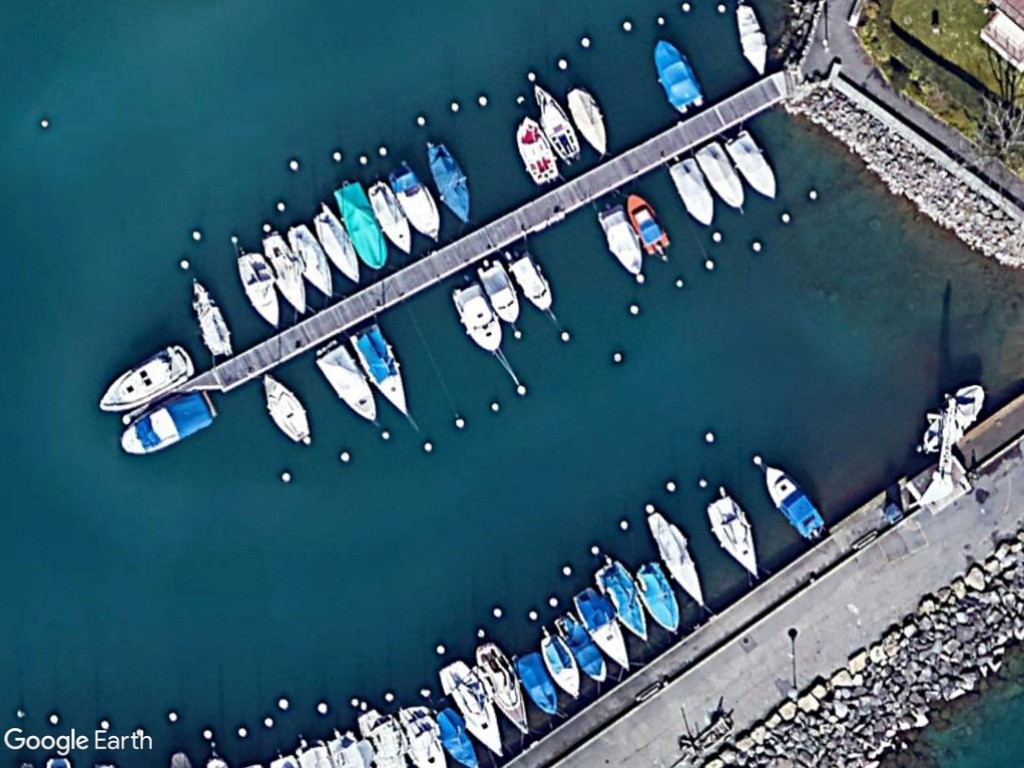boat: (89, 337, 197, 421), (642, 507, 716, 615), (117, 385, 224, 459), (436, 657, 512, 759), (345, 321, 417, 415), (310, 334, 385, 423), (469, 640, 536, 739), (696, 489, 767, 582), (760, 456, 833, 546), (570, 582, 633, 672), (593, 554, 652, 646), (333, 179, 390, 273), (623, 553, 684, 640), (391, 155, 449, 246), (527, 76, 583, 169), (529, 618, 590, 702), (308, 198, 366, 286), (426, 136, 480, 228), (549, 608, 612, 685), (661, 153, 719, 236), (259, 228, 313, 317), (230, 247, 285, 333), (284, 217, 340, 301), (422, 695, 485, 768), (654, 30, 706, 117), (723, 128, 780, 207), (259, 369, 314, 450), (448, 278, 504, 356), (697, 131, 748, 214), (596, 197, 645, 282), (514, 110, 565, 189), (474, 255, 530, 326), (506, 243, 561, 315), (516, 644, 565, 721), (565, 82, 612, 162), (368, 179, 417, 255), (618, 191, 672, 259), (729, 0, 768, 76)
